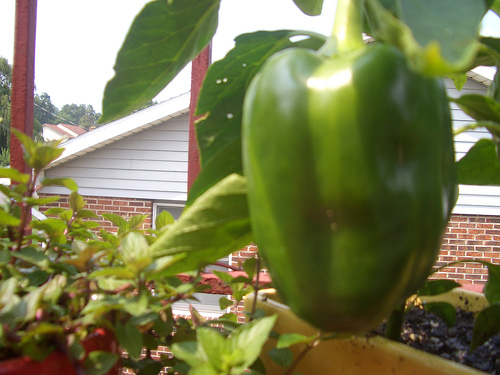capsicum: (241, 0, 459, 336)
